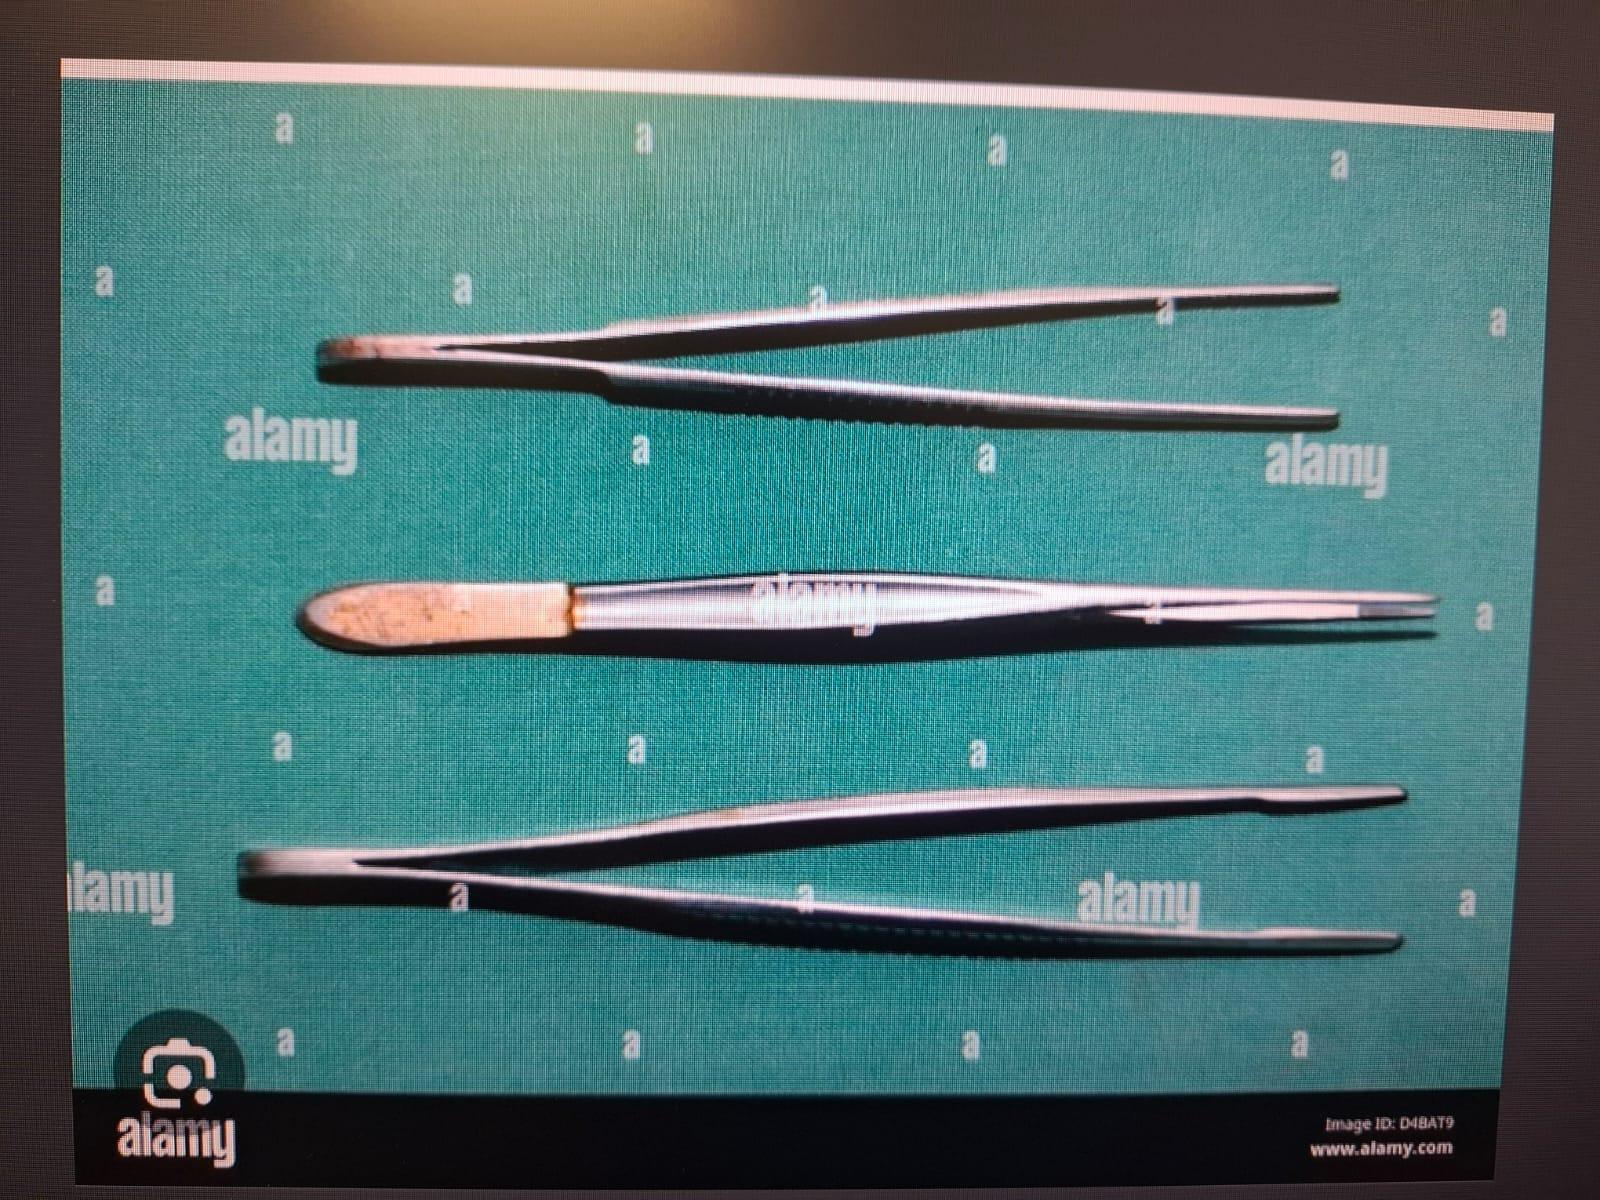Disscting Forceps: (228, 763, 1430, 979), (296, 245, 1361, 464), (265, 532, 1454, 700)
